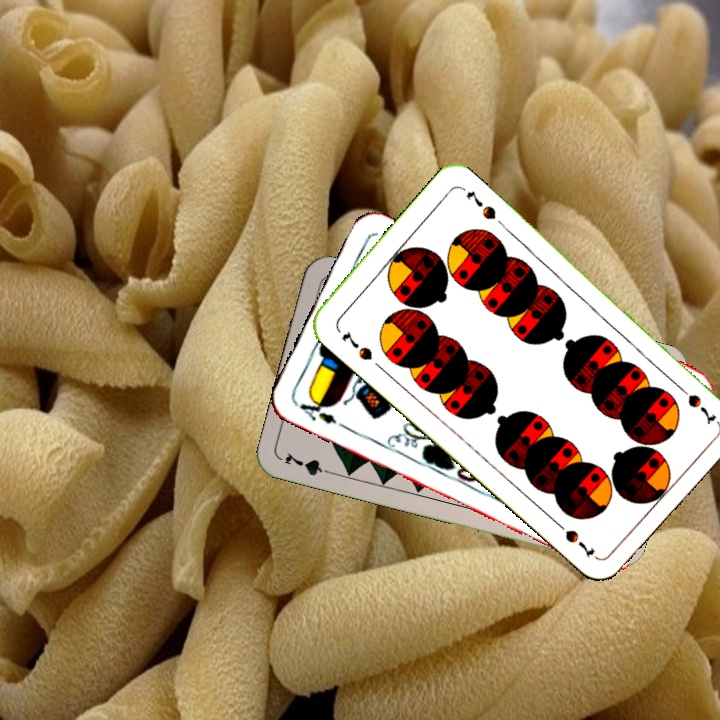EA: (292, 392, 340, 427)
G7: (280, 449, 338, 479)
S7: (671, 379, 719, 426), (338, 327, 375, 363)
